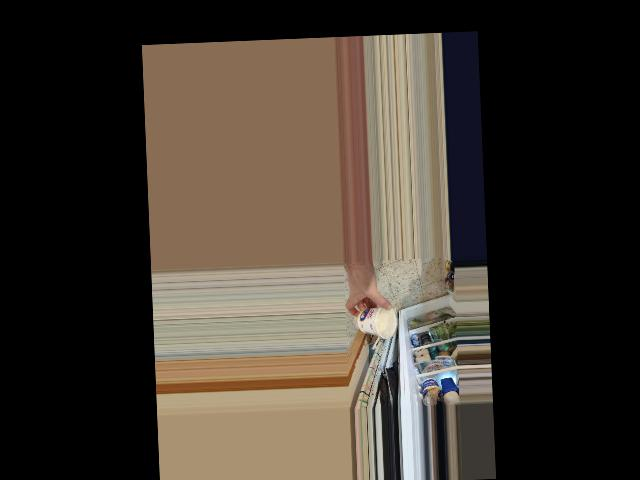cotage: (357, 304, 400, 339)
